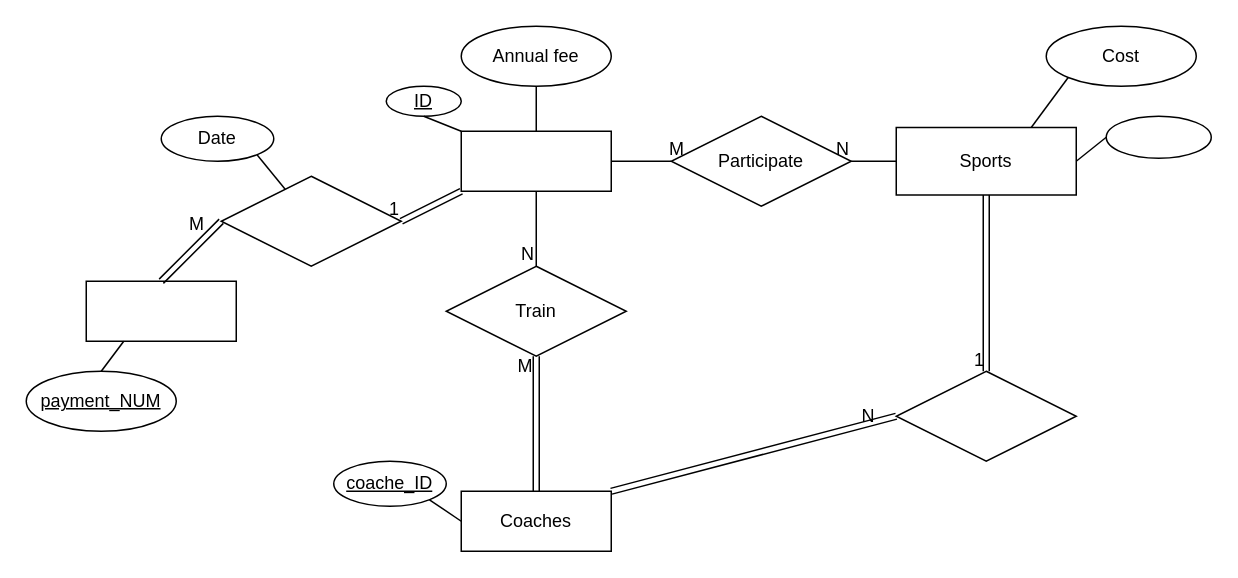
Image size: 1238x578. Some labels were removed from this diagram. Here are the shapes that lost their labels. From the top down, the centre of each, then its label:
At point (1158, 136): "Sport_ID".
At point (535, 160): "Members".
At point (310, 220): "Pay".
At point (160, 310): "Payments".
At point (985, 415): "Assigned".
